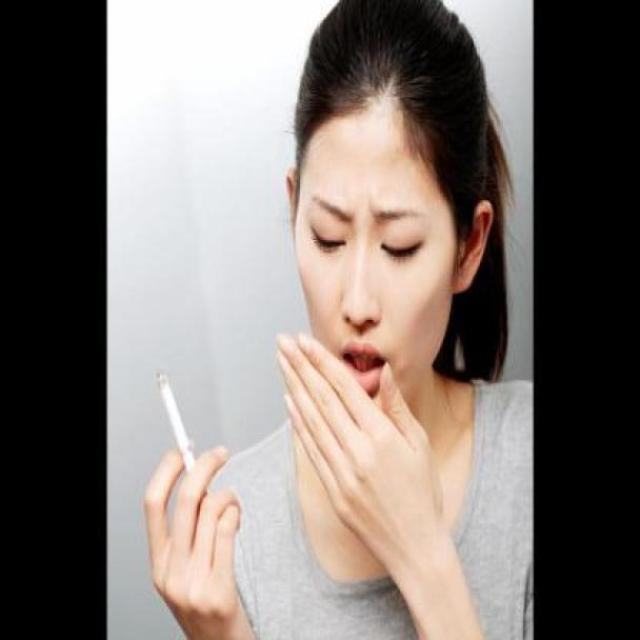rokok: (152, 360, 206, 486)
